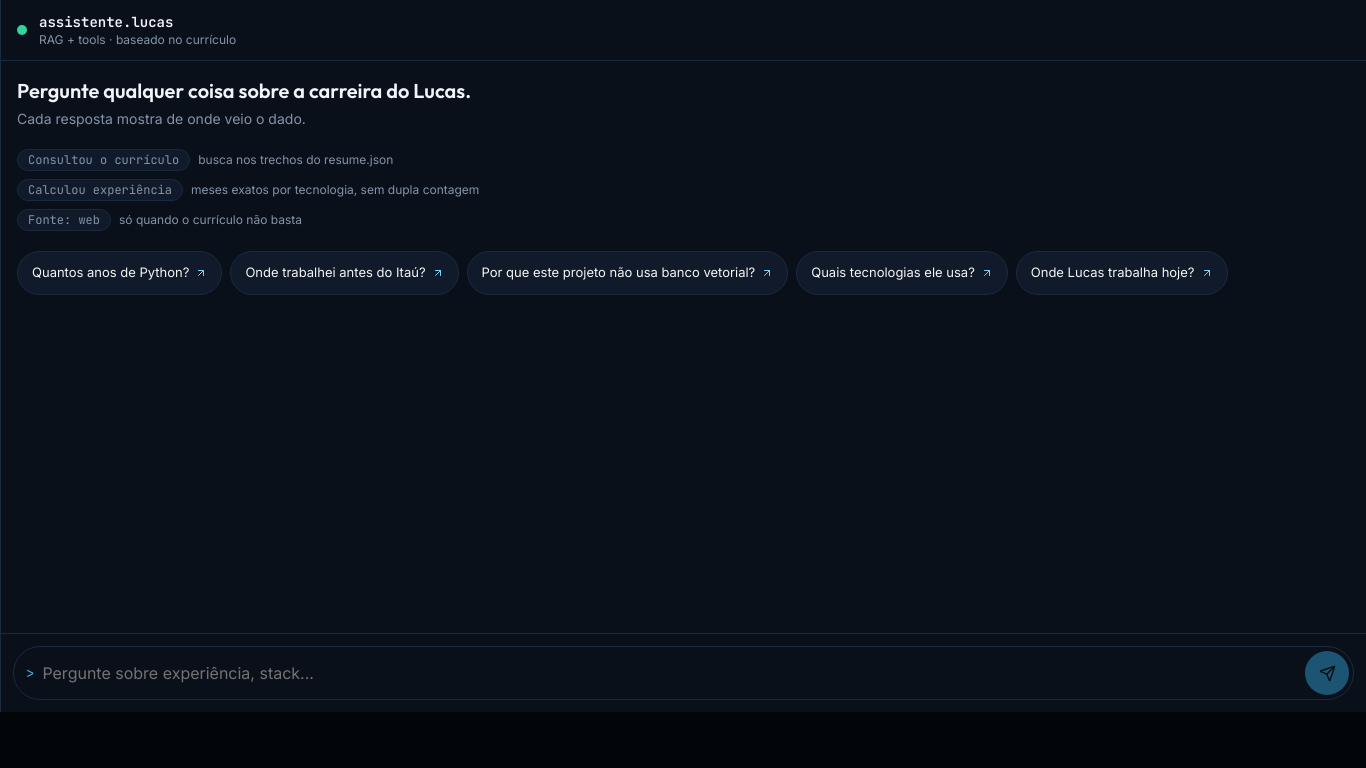
ChatAside › mantém a resposta e cai no detalhe simples quando o formato da tool não é reconhecido
This screenshot has width=1366, height=768.
Type "Quanto tempo de Java?" into the field named "pergunte ao assistente sobre a carreira" at (670, 673), box left=42, top=651, right=1297, bottom=695
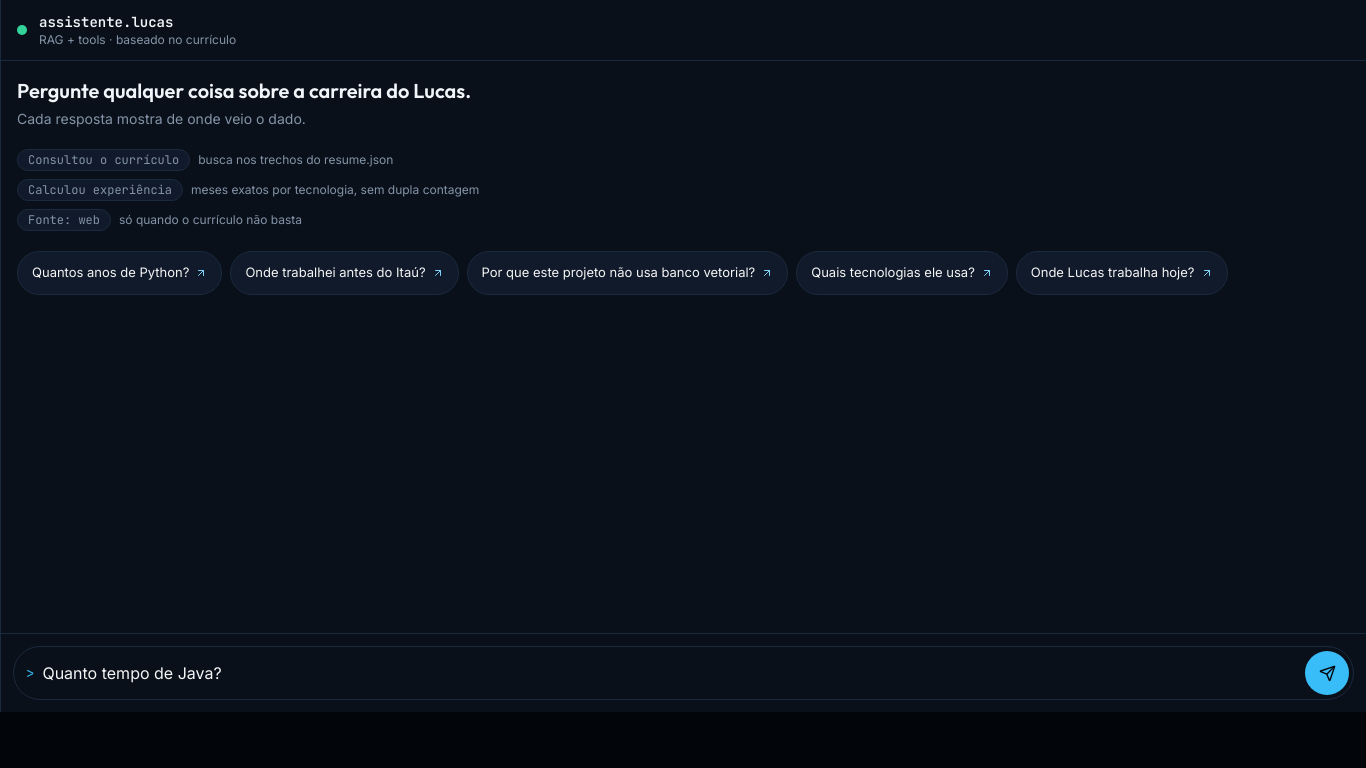
Click the button named "Enviar pergunta" at (1327, 673), box left=1305, top=651, right=1349, bottom=695
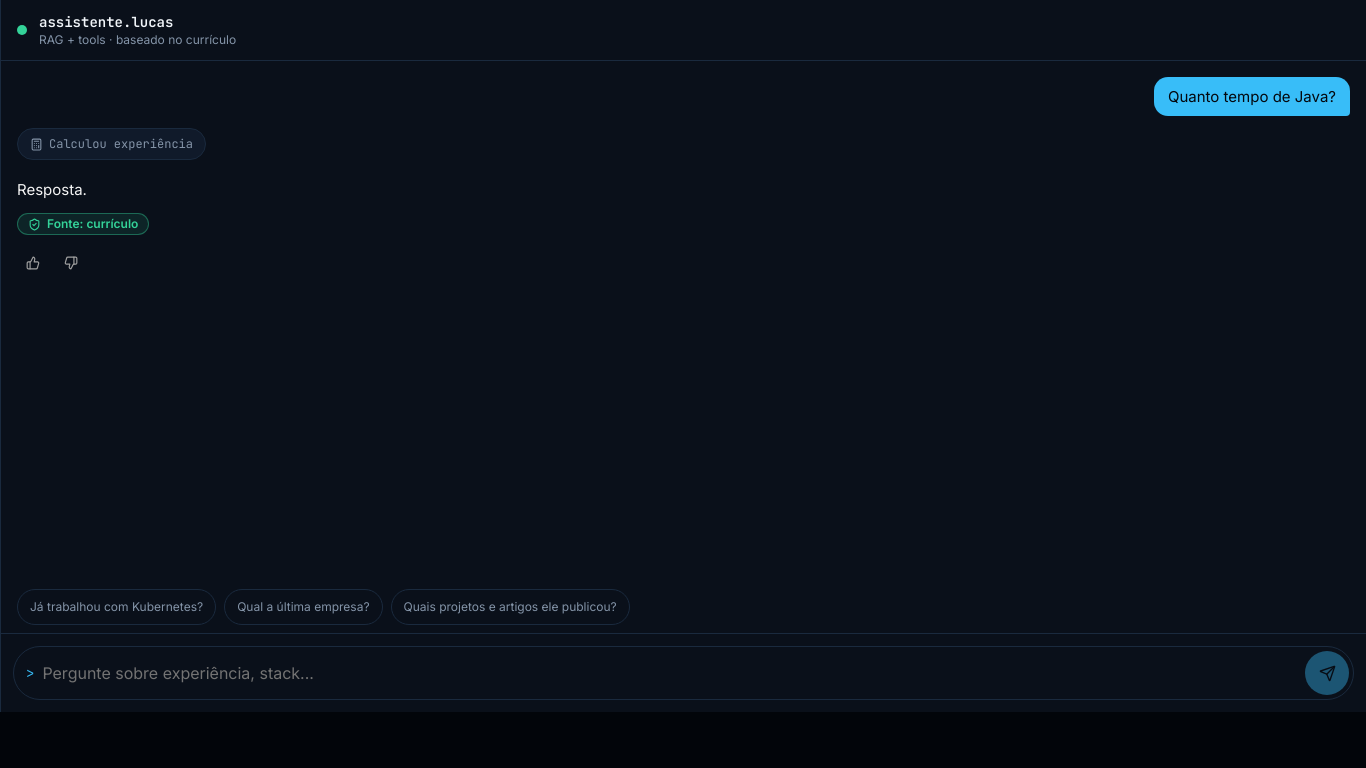
Click the button "Calculou experiência" at (112, 144), box left=17, top=128, right=206, bottom=160
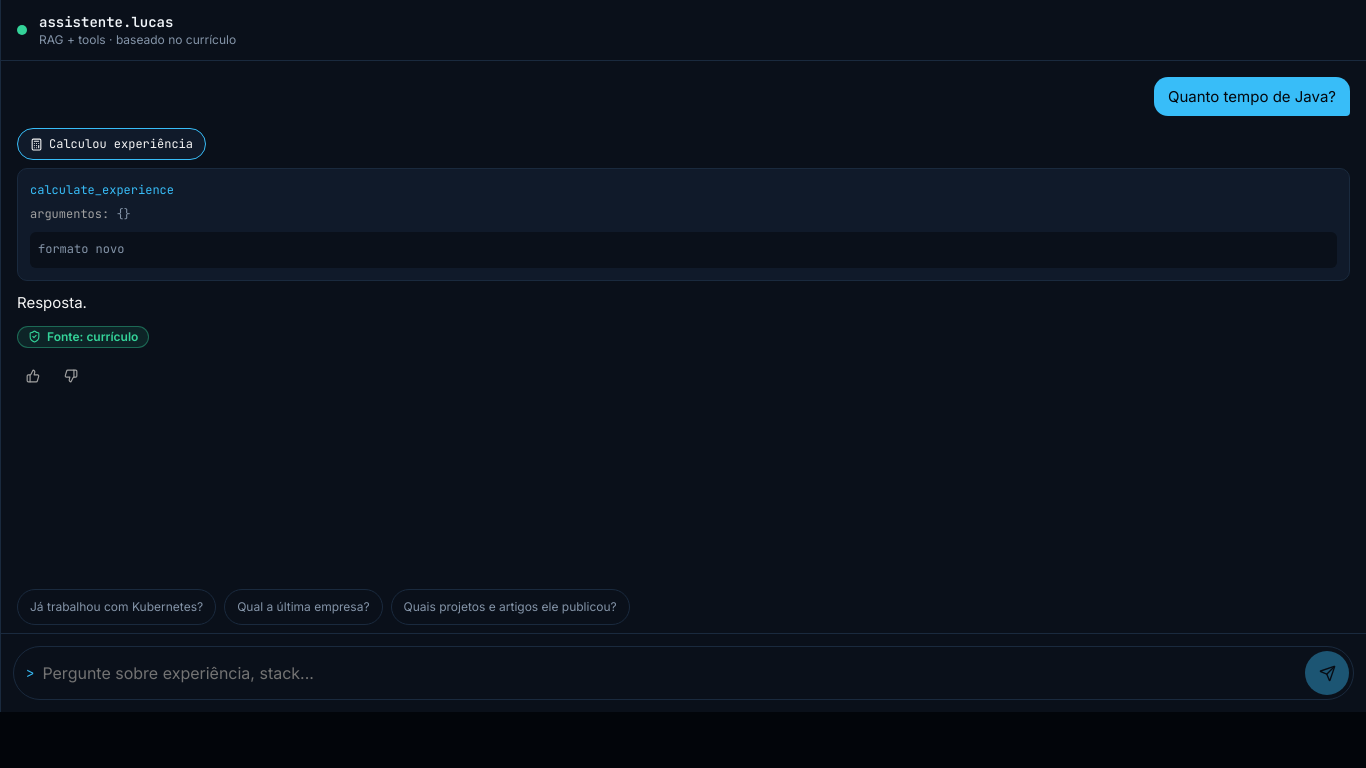
Expected: the text named "Resultado de calculate_experience" reads "formato novo", left=38, top=241, right=124, bottom=257
